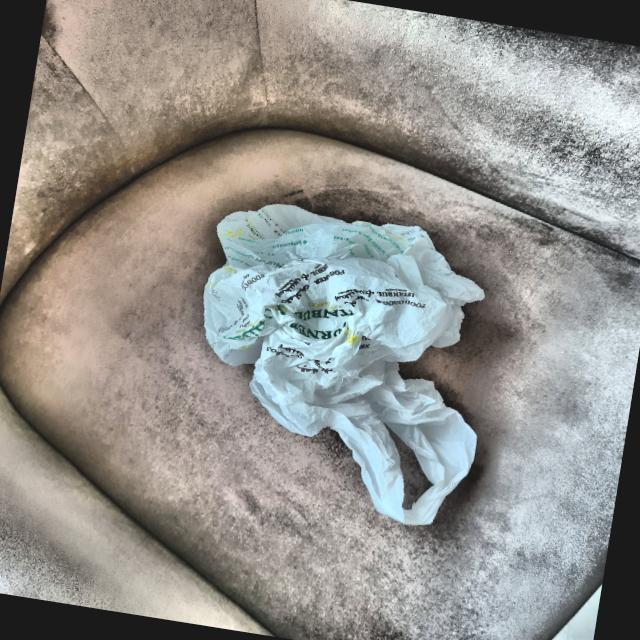plastic bag: (174, 191, 505, 528)
